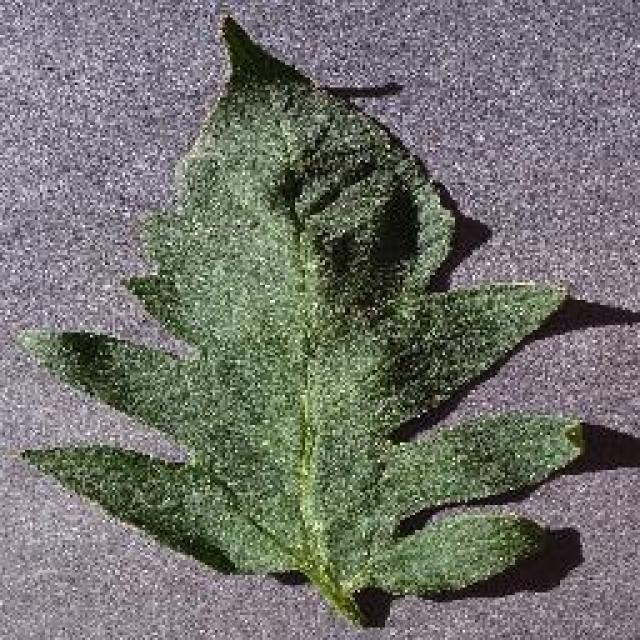Tomato healthy leaf: (24, 21, 588, 609)
